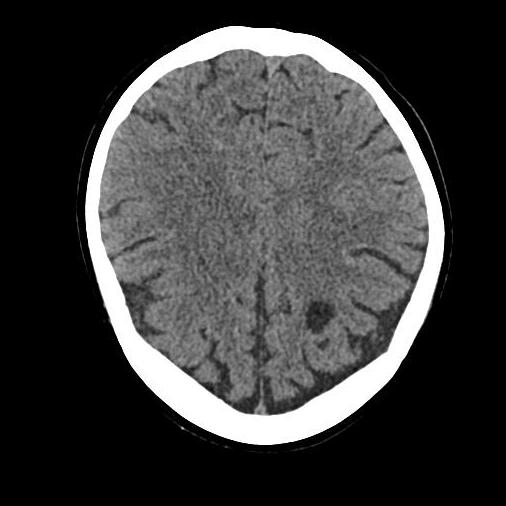Cancer: (278, 287, 350, 344)
